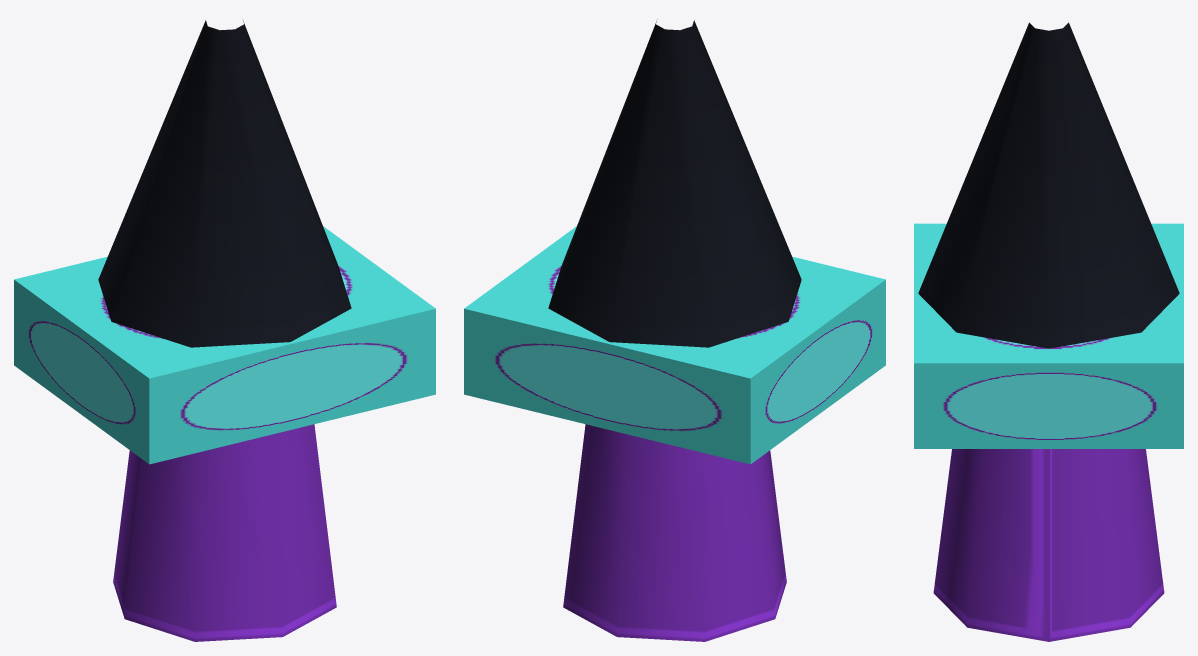
The model's file is ITEM_VOID_SHARD.glb.
3 renders of one model, left to right at view 1: azimuth 30°, elevation 25°; view 2: azimuth 150°, elevation 25°; view 3: azimuth 270°, elevation 25°, orthographic.
Parts seen in each view (by area): view 1: ITEM_VOID_SHARD; view 2: ITEM_VOID_SHARD; view 3: ITEM_VOID_SHARD.
Part boxes in pixels (<box>): ITEM_VOID_SHARD: <box>14,20,435,641</box>; ITEM_VOID_SHARD: <box>464,20,885,641</box>; ITEM_VOID_SHARD: <box>914,22,1183,641</box>.
Bounding box in the file's own units: 0.22 × 0.42 × 0.18.
1 material, 1 textured.
